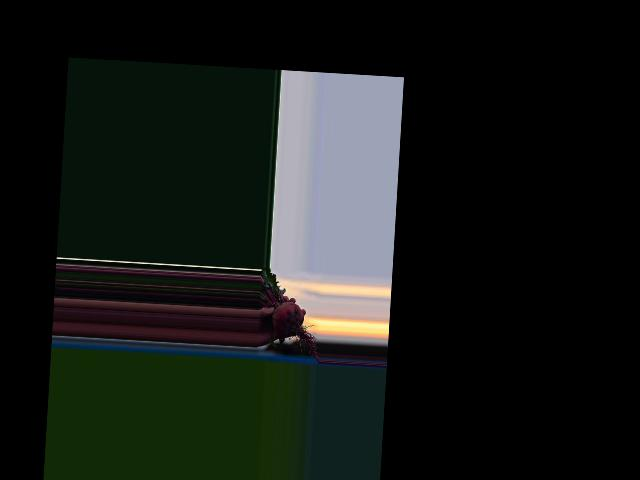beet: (256, 267, 325, 362)
